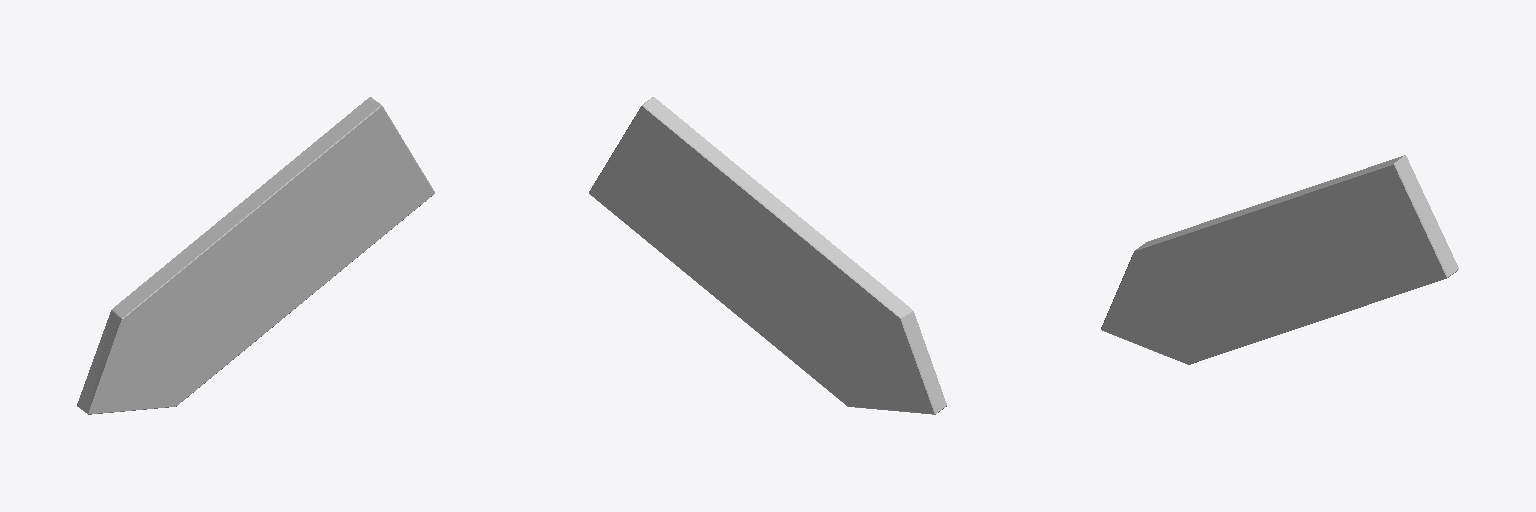
Rendered from ArrowSign1.obj.
The picture shows the model from 3 angles: view 1: azimuth 30°, elevation 25°; view 2: azimuth 150°, elevation 25°; view 3: azimuth 330°, elevation 25°; orthographic projection.
Parts seen in each view (by area): view 1: uploads_files_[number redacted]_Little_Signpost_OBJ; view 2: uploads_files_[number redacted]_Little_Signpost_OBJ; view 3: uploads_files_[number redacted]_Little_Signpost_OBJ.
Part boxes in pixels (bbox=[...]): uploads_files_[number redacted]_Little_Signpost_OBJ: bbox=[77, 97, 434, 414]; uploads_files_[number redacted]_Little_Signpost_OBJ: bbox=[589, 97, 946, 414]; uploads_files_[number redacted]_Little_Signpost_OBJ: bbox=[1101, 155, 1458, 364].
Size of the model in its own units: 132 by 91.5 by 8.07.